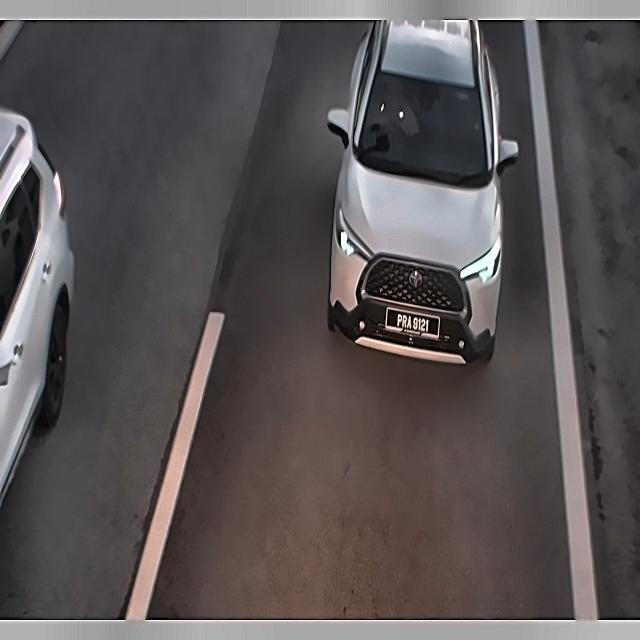car: (383, 302, 444, 345)
